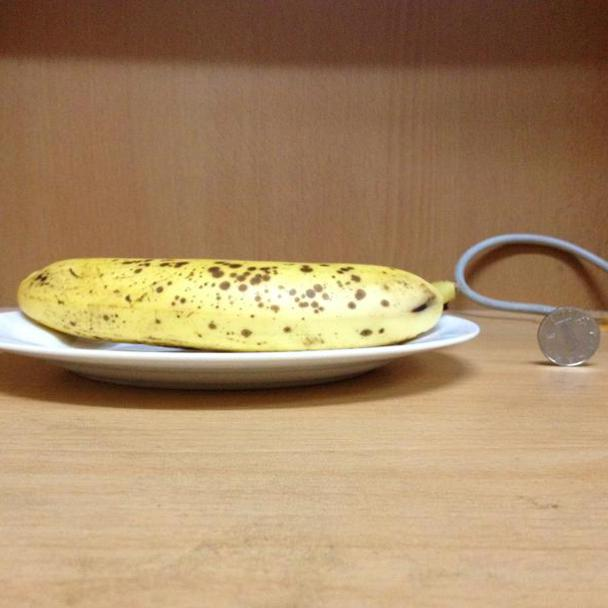banana: (20, 246, 455, 343)
